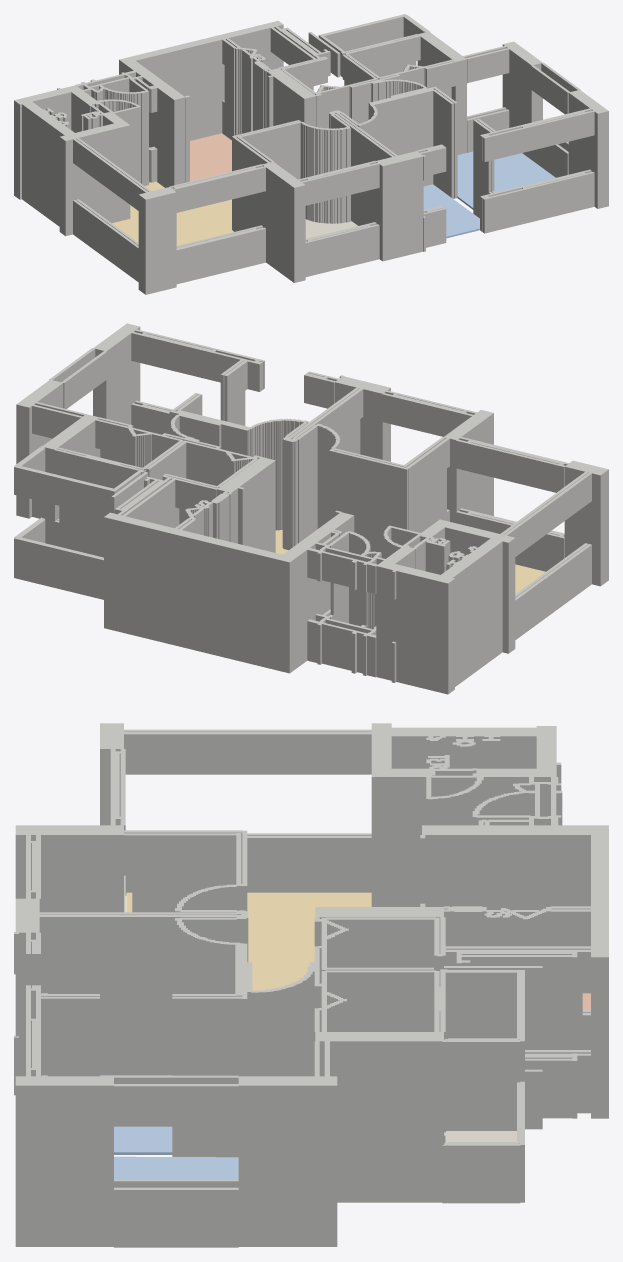
3 renders of one model, top to bottom at view 1: azimuth 30°, elevation 25°; view 2: azimuth 150°, elevation 25°; view 3: azimuth 270°, elevation 25°, orthographic. The views are drawn at different scales.
Visible parts, largest first — view 1: walls, room:living:1, room:bedroom:2, room:kitchen:0, room:bedroom:3, room:other:11; view 2: walls, room:living:1; view 3: walls, room:living:1, room:bedroom:2, room:bedroom:3, room:other:7.
Part boxes in pixels (x1=…): walls: x1=14, y1=14, x2=608, y2=294; room:living:1: x1=112, y1=181, x2=233, y2=245; room:bedroom:2: x1=457, y1=151, x2=555, y2=209; room:kitchen:0: x1=190, y1=133, x2=231, y2=181; room:bedroom:3: x1=423, y1=184, x2=479, y2=238; room:other:11: x1=305, y1=219, x2=357, y2=238; walls: x1=14, y1=323, x2=608, y2=694; room:living:1: x1=275, y1=530, x2=545, y2=593; walls: x1=14, y1=723, x2=608, y2=1247; room:living:1: x1=126, y1=892, x2=371, y2=990; room:bedroom:2: x1=114, y1=1156, x2=238, y2=1179; room:bedroom:3: x1=41, y1=1075, x2=172, y2=1154; room:other:7: x1=446, y1=1131, x2=516, y2=1142.
Size of the model in its own units: 13.51 by 2.8 by 9.36.
